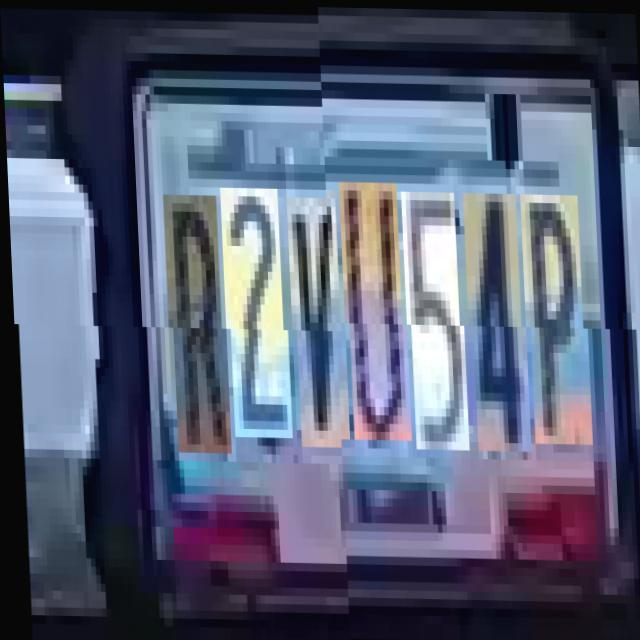2: (222, 186, 288, 438)
4: (466, 200, 528, 458)
5: (404, 198, 466, 456)
P: (523, 200, 589, 451)
R: (165, 194, 228, 452)
U: (342, 188, 408, 448)
V: (290, 196, 346, 446)
